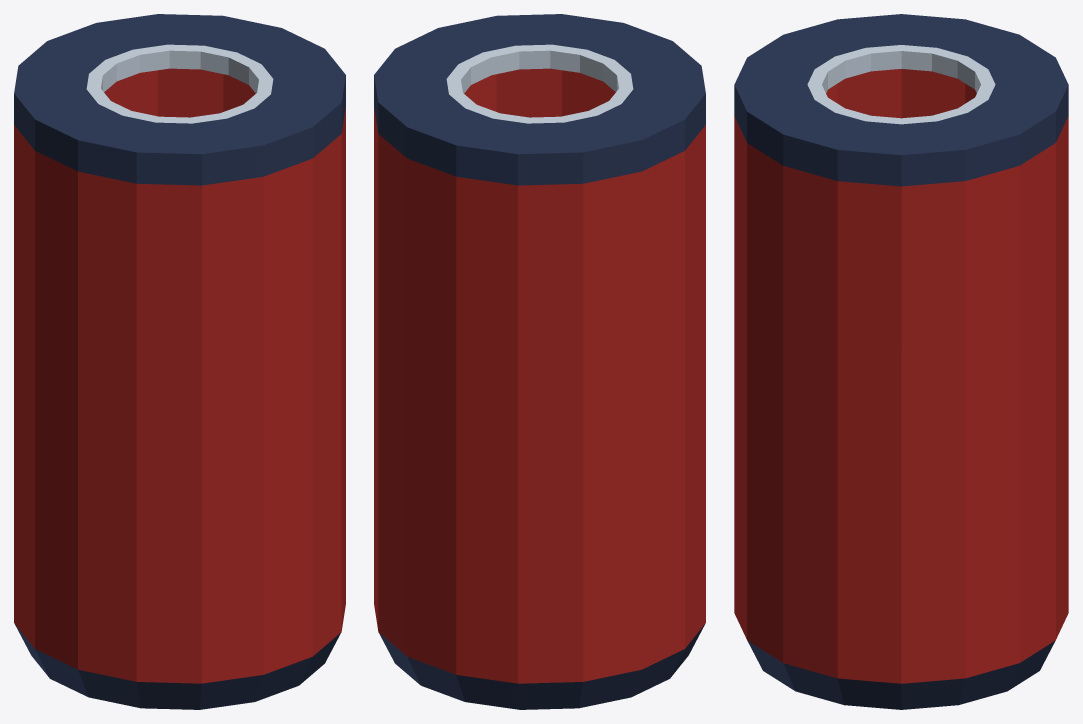
The model's file is TrashBinModel02.fbx.
3 views of the same model, side by side, from view 1: azimuth 30°, elevation 25°; view 2: azimuth 150°, elevation 25°; view 3: azimuth 270°, elevation 25° (orthographic).
Parts seen in each view (by area): view 1: TrashBin02; view 2: TrashBin02; view 3: TrashBin02.
Boxes of the visible parts, x1=… form: TrashBin02: x1=14, y1=14, x2=345, y2=709; TrashBin02: x1=374, y1=14, x2=705, y2=709; TrashBin02: x1=734, y1=14, x2=1068, y2=709.
Bounding box in the file's own units: 68.35 × 127 × 68.35.
